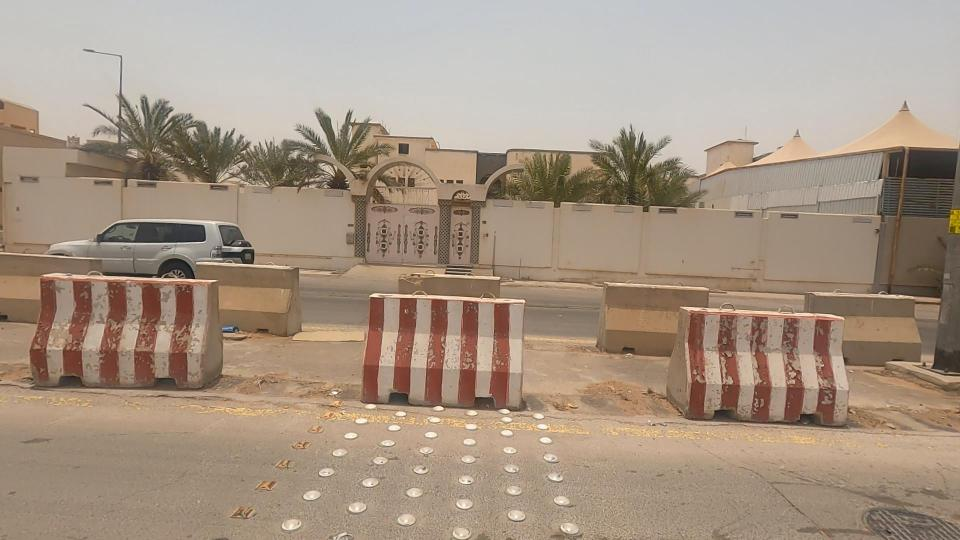GARBAGE: (185, 288, 279, 372)
